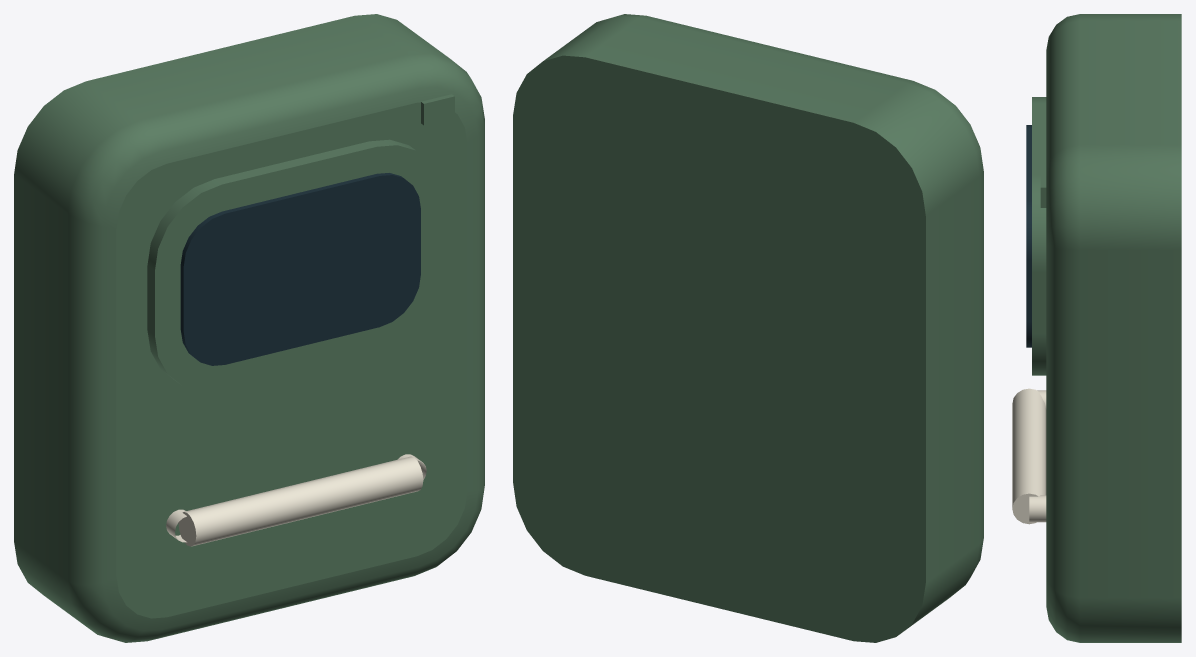
Rendered from t10_scrubber.obj.
The picture shows the model from 3 angles, left to right: view 1: azimuth 30°, elevation 25°; view 2: azimuth 150°, elevation 25°; view 3: azimuth 270°, elevation 25°; orthographic projection. The views are drawn at different scales.
Parts seen in each view (by area): view 1: t10_scrubber; view 2: t10_scrubber; view 3: t10_scrubber.
Boxes of the visible parts, x1,y1,x2,y2 form: t10_scrubber: [14, 14, 484, 642]; t10_scrubber: [513, 14, 983, 642]; t10_scrubber: [1012, 14, 1181, 642].
Size of the model in its own units: 0.8 by 0.96 by 0.3.
